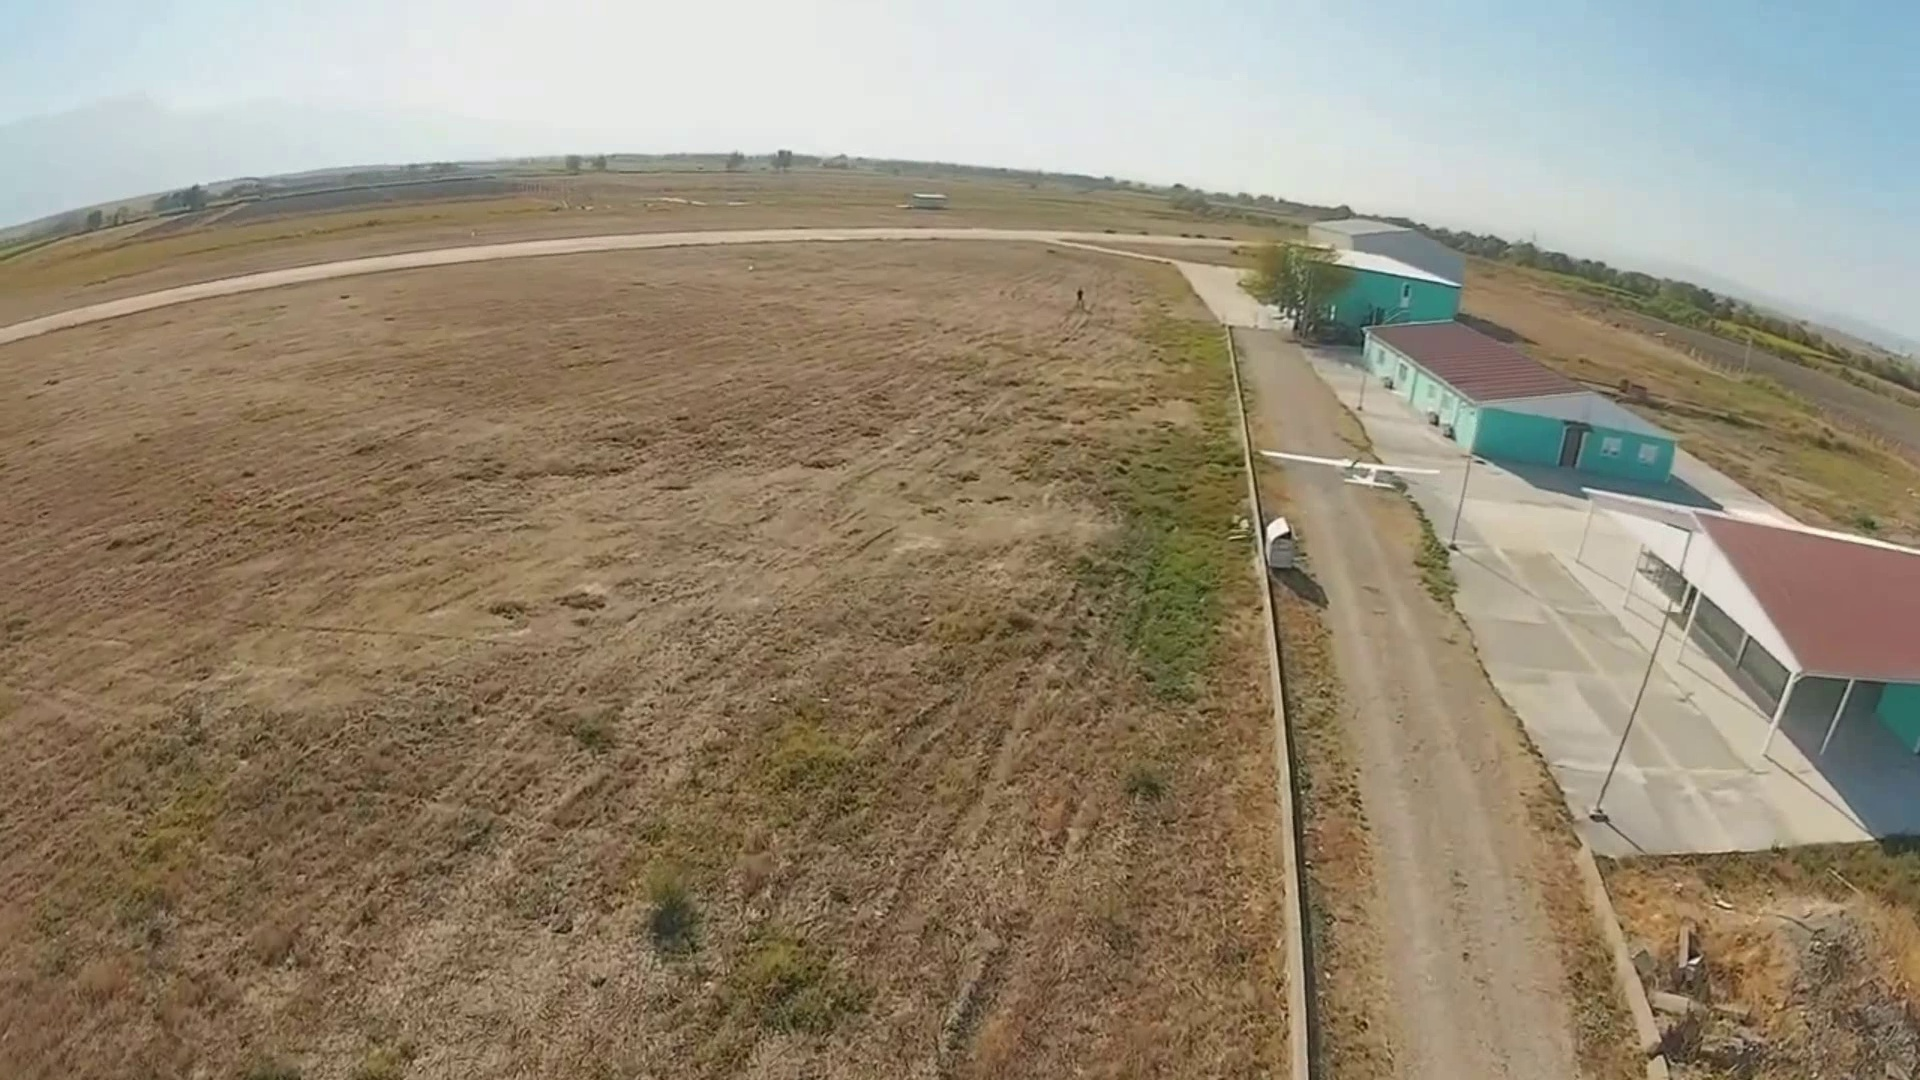airplane: (1353, 314, 1918, 857)
